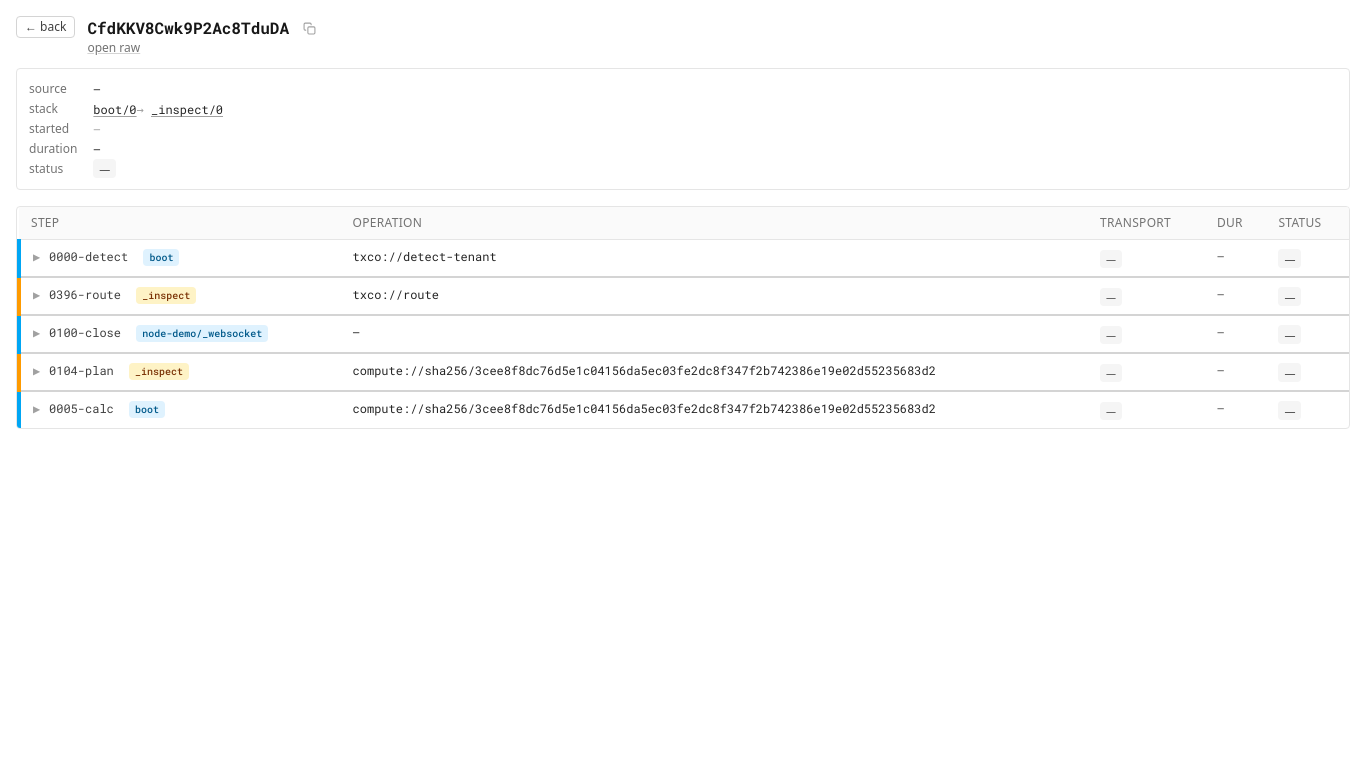
Test case: TraceDetail step links › clicking a link does not expand the step
What coordinates should you click on to do the following:
click the link "0396-route"
I would click on:
 (85, 294)
Its box is left=49, top=286, right=121, bottom=302.
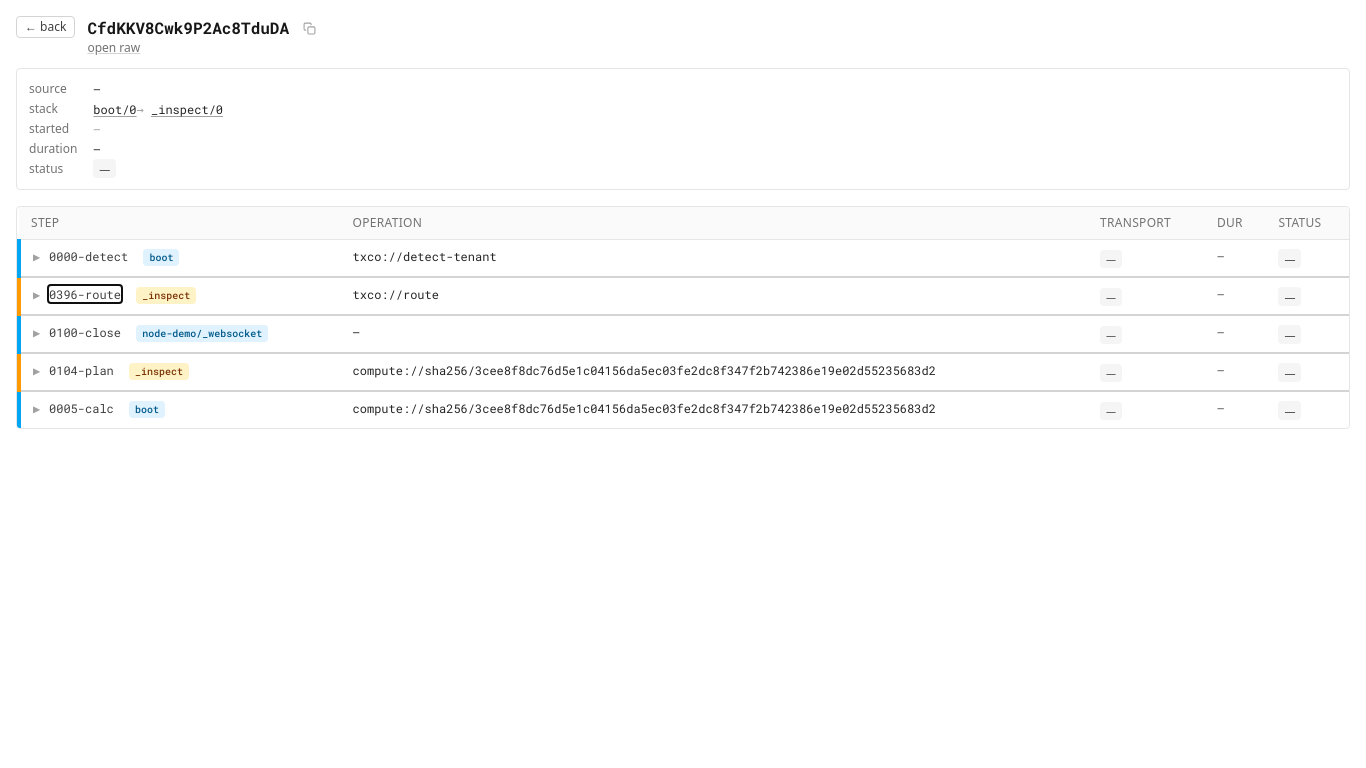
What coordinates should you click on to do the following:
click the link "txco://route"
I would click on:
 (396, 294)
Its box is left=353, top=286, right=439, bottom=302.
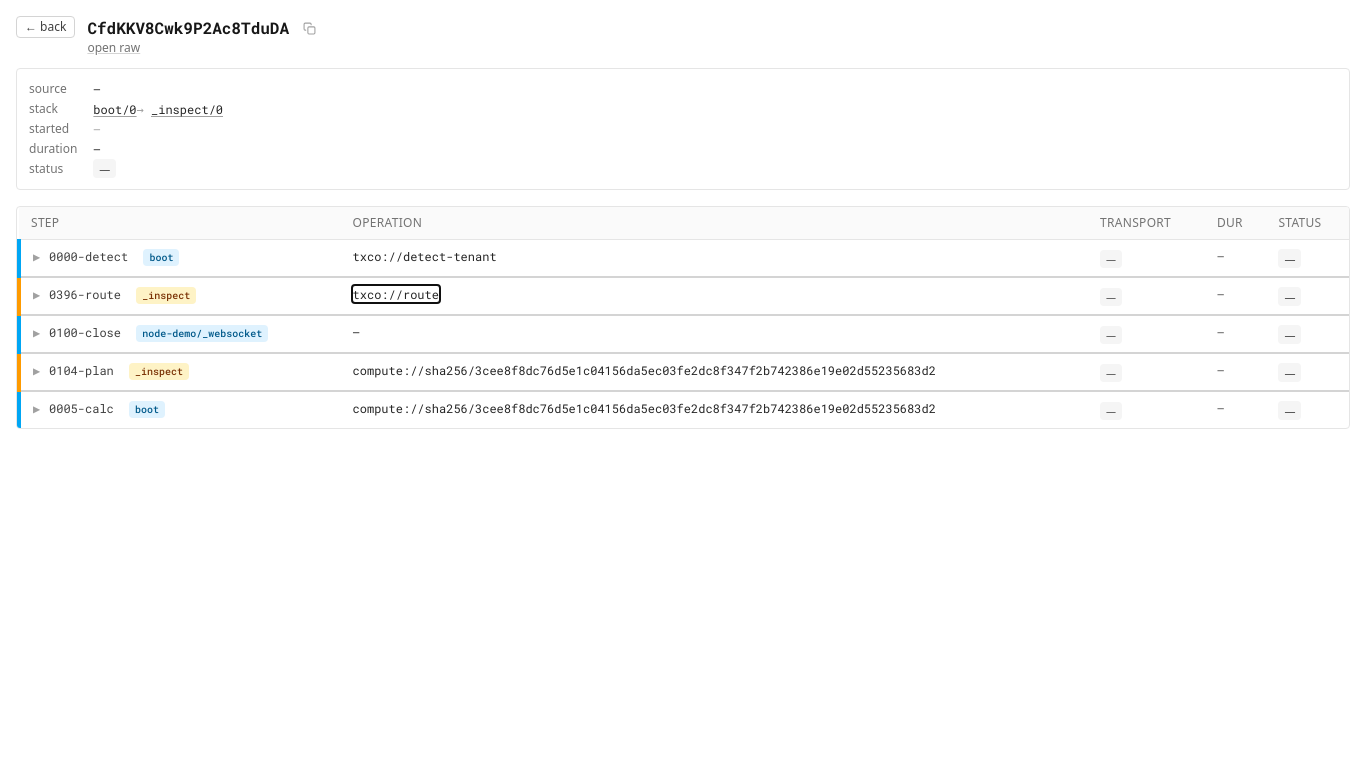
What coordinates should you click on to do the following:
click the cell "txco://route"
I would click on:
 (714, 296)
Its box is left=341, top=277, right=1088, bottom=315.
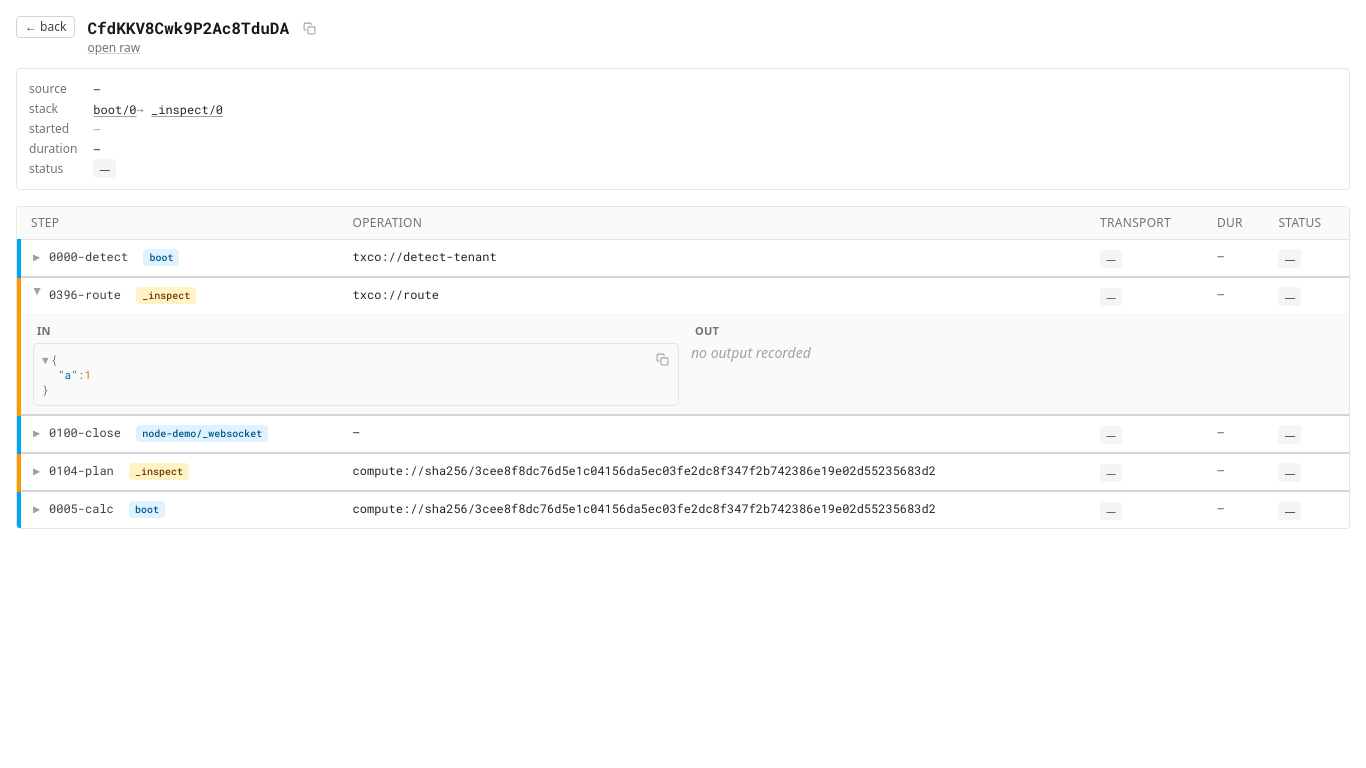
Expected: the text "in" is shown, left=37, top=323, right=51, bottom=338
